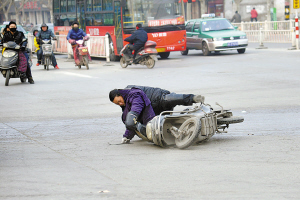fall: (102, 78, 208, 147)
